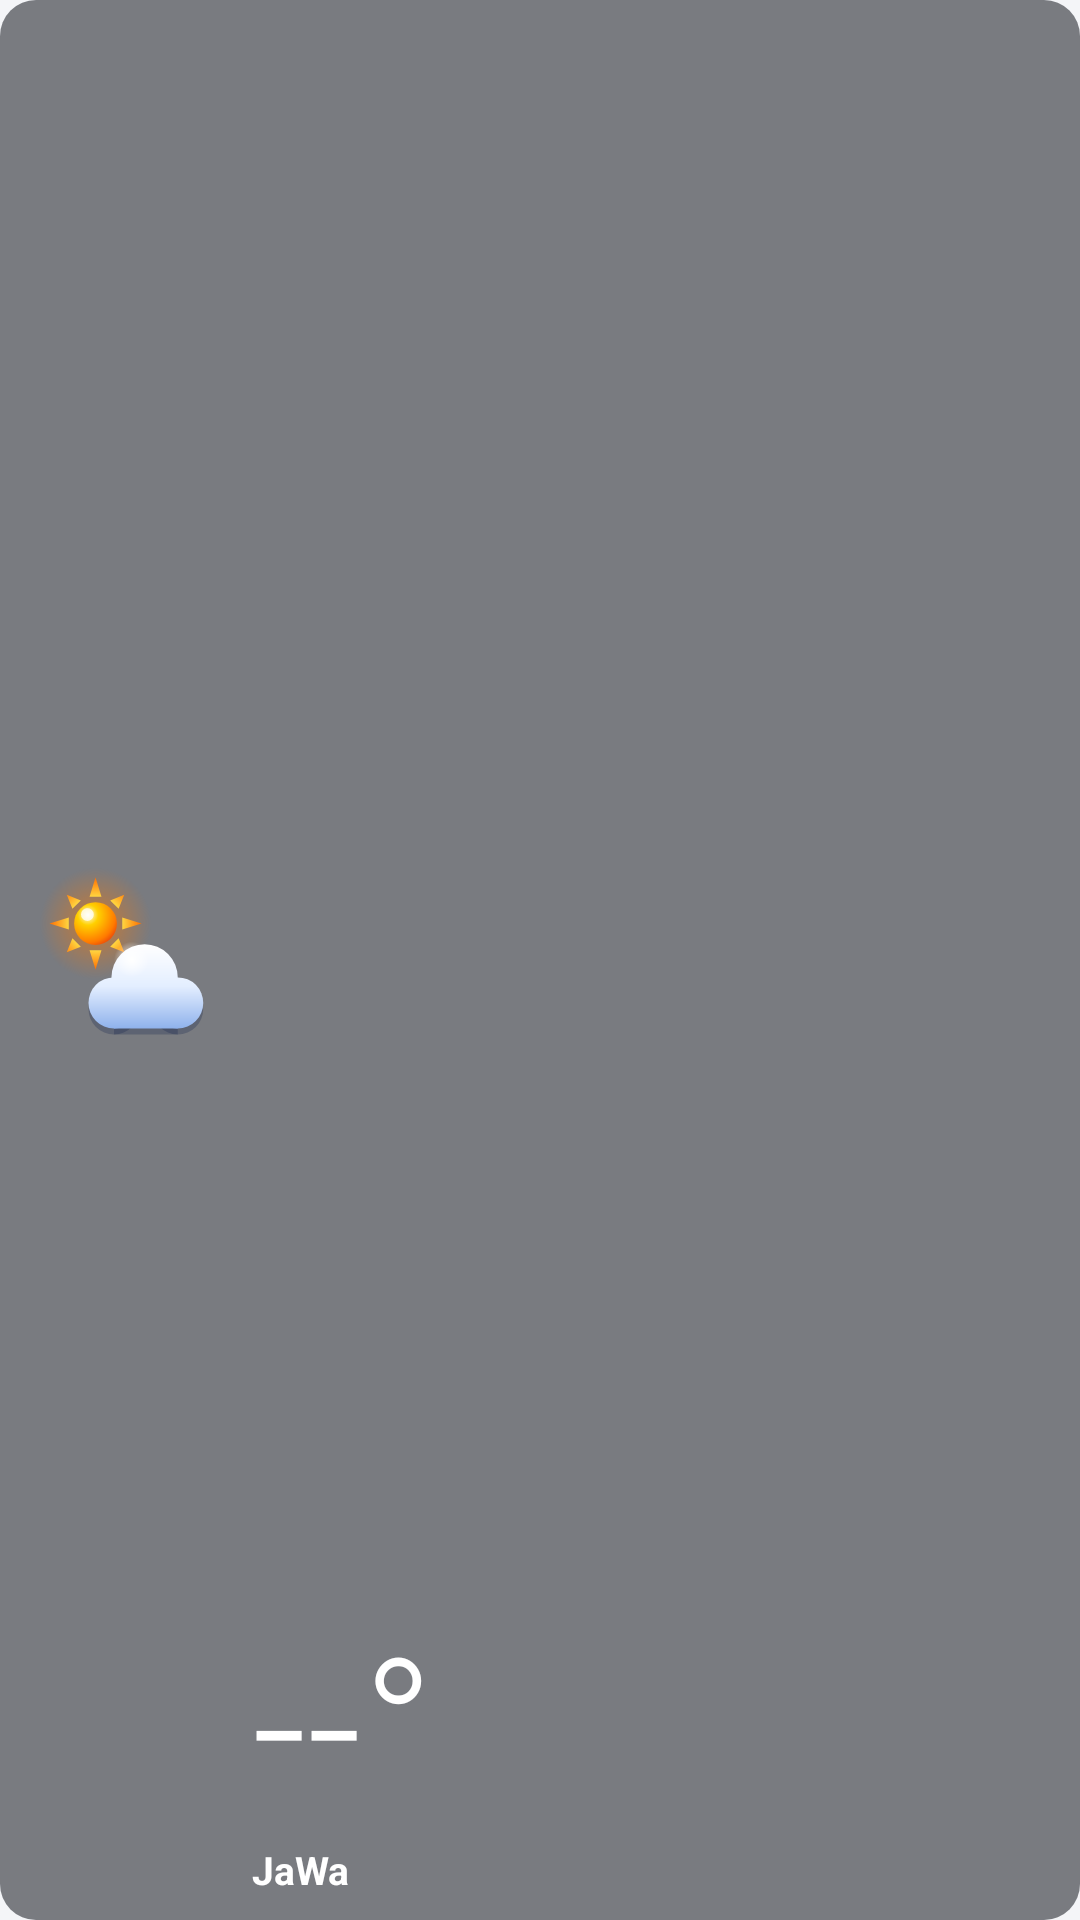

Icon bounding boxes for this 1080w x 1920h phone screenshot, format Rect(x1, y1, x2, y2):
partly day: Rect(50, 878, 203, 1035)
